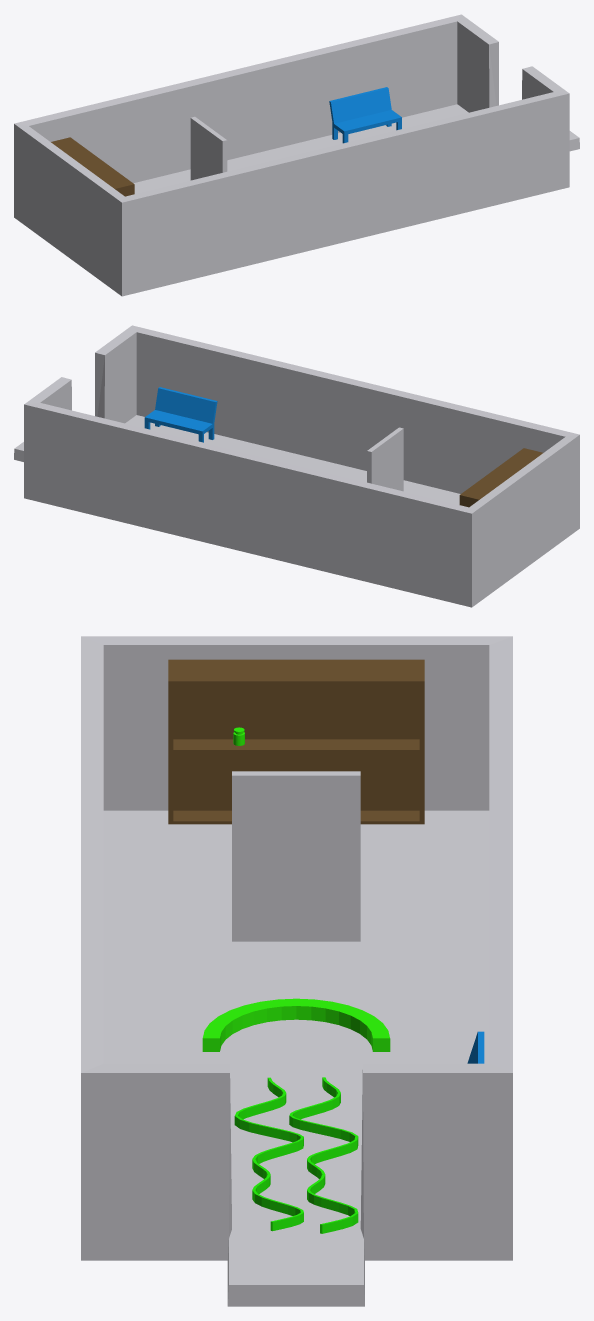
The model's file is Final_Map2.dae.
3 renders of one model, top to bottom at view 1: azimuth 30°, elevation 25°; view 2: azimuth 150°, elevation 25°; view 3: azimuth 270°, elevation 25°, orthographic. The views are drawn at different scales.
Visible parts, largest first — view 1: Cube.002; view 2: Cube.002; view 3: Cube.002.
Boxes of the visible parts, left/top/right/bottom form: Cube.002: left=14, top=14, right=579, bottom=296; Cube.002: left=14, top=325, right=579, bottom=607; Cube.002: left=81, top=636, right=512, bottom=1306.
Size of the model in its own units: 31.35 by 11.85 by 5.68.
